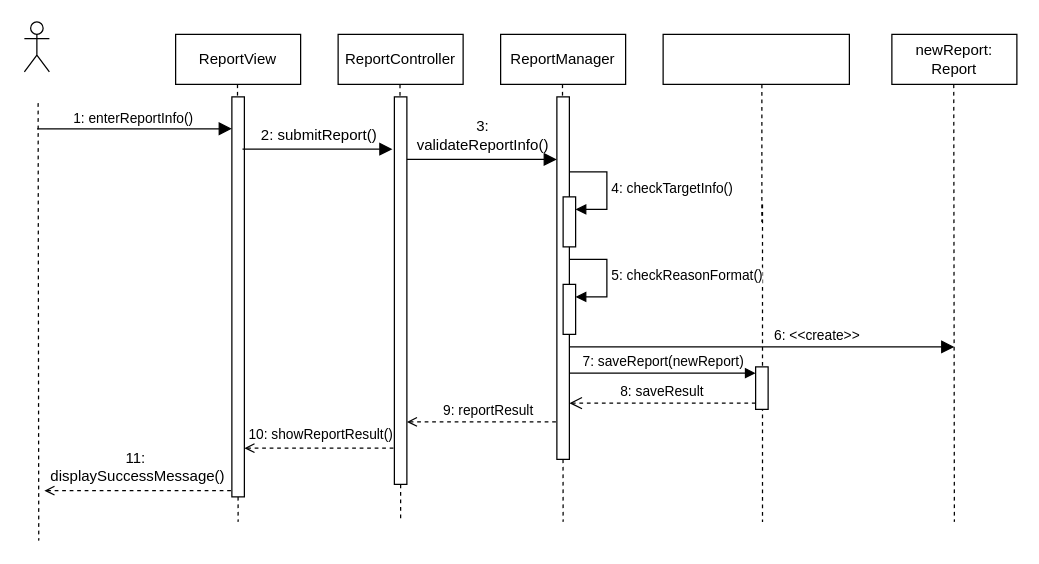
Some shapes in this 1039 by 564 pixel diagram are drawn without their labels. The centre of each missing label's shape, as x and y in pixels:
ReportRepository: the point at 755,58
User: the point at 36,46
